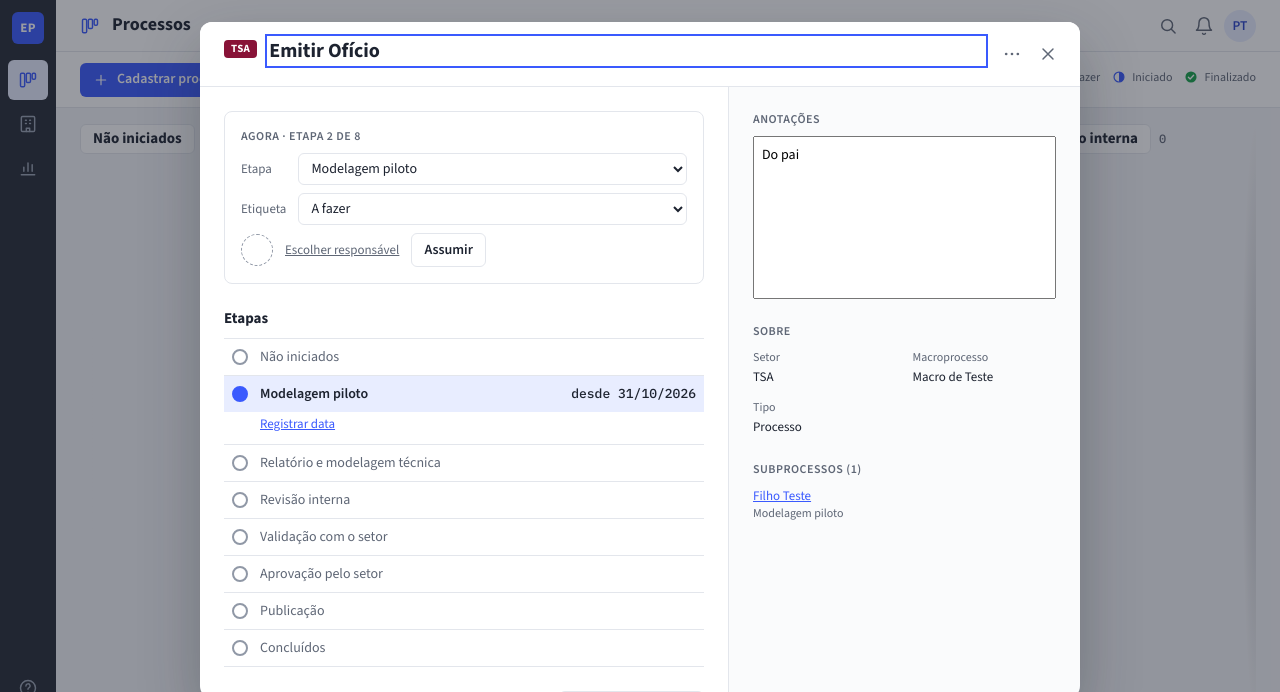
Test: o subprocesso tem as suas Anotações, diferentes das do pai
The image size is (1280, 692).
Expected: the text box labelled "Anotações" holds "Do pai", [753, 136, 1056, 299]
Click the link "Filho Teste" at {"x": 782, "y": 496}, box [753, 486, 811, 504]
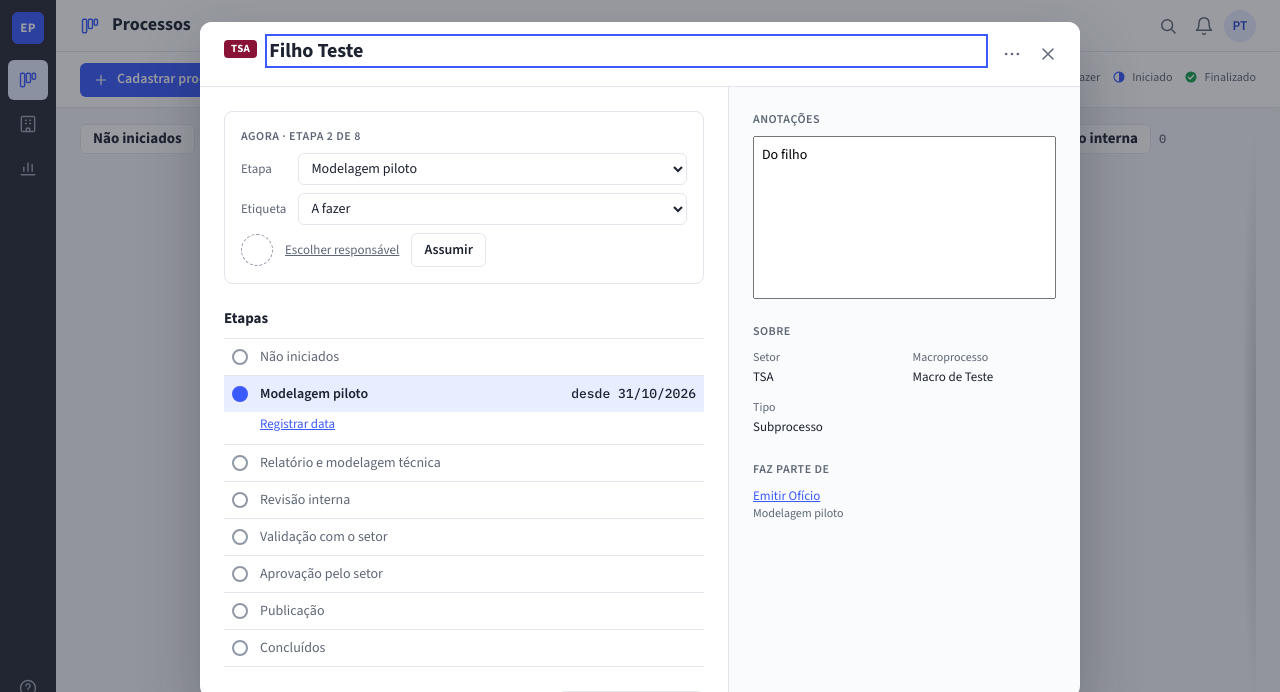
Expected: the text box labelled "Anotações" holds "Do filho", [753, 136, 1056, 299]
